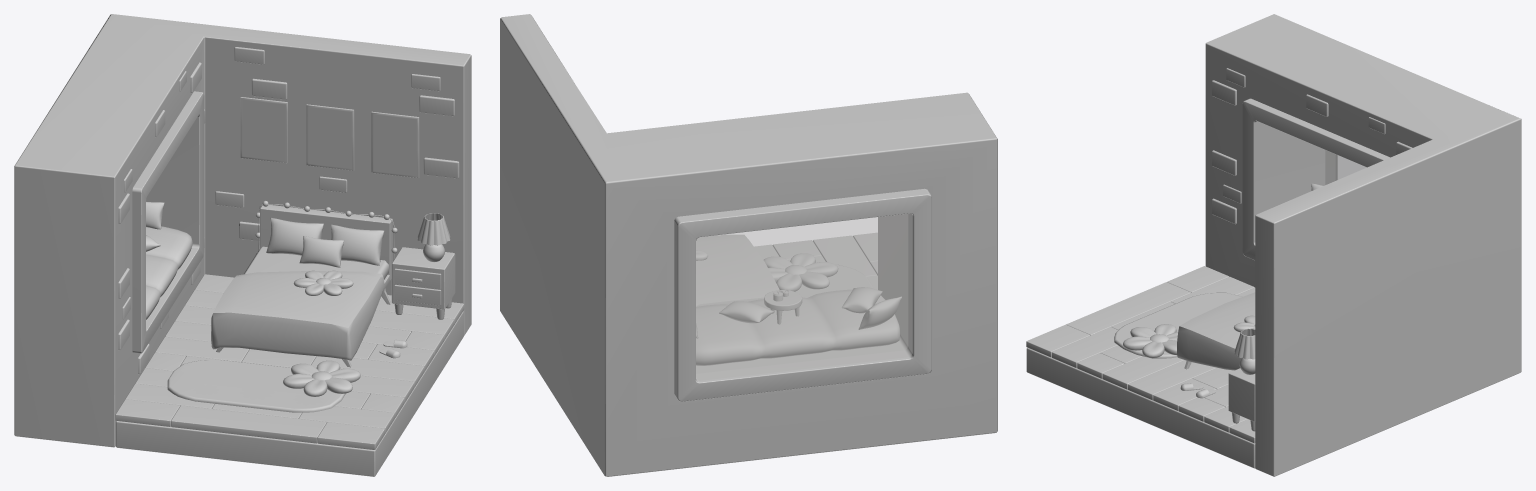
Rendered from Bedroom_12.fbx.
The picture shows the model from 3 angles, left to right: view 1: azimuth 30°, elevation 25°; view 2: azimuth 150°, elevation 25°; view 3: azimuth 270°, elevation 25°; orthographic projection. The views are drawn at different scales.
Parts seen in each view (by area): view 1: Room_12_Wall_1, Room_12_Floor_2, Room_12_Bed_1, Room_12_Window_1, Room_12_Floor_1, Room_12_Carpet_1, Room_12_Cabinet_1, Room_12_Painting_2, Room_12_Painting_3, Room_12_Painting_1, Room_12_Pillow_1, Room_12_Pillow_8 (+6 smaller); view 2: Room_12_Wall_1, Room_12_Window_1, Room_12_Pillow_1, Room_12_Bed_1, Room_12_Floor_2, Room_12_Pillow_8, Room_12_Carpet_1, Room_12_Pillow_10, Room_12_Pillow_6, Room_12_Pillow_7, Room_12_Table_1; view 3: Room_12_Wall_1, Room_12_Floor_2, Room_12_Window_1, Room_12_Floor_1, Room_12_Bed_1, Room_12_Carpet_1, Room_12_Pillow_8, Room_12_Cabinet_1, Room_12_Lamp_1.
Part boxes in pixels (bbox=[...]): Room_12_Wall_1: bbox=[14, 14, 471, 447]; Room_12_Floor_2: bbox=[115, 274, 464, 450]; Room_12_Bed_1: bbox=[211, 204, 392, 367]; Room_12_Window_1: bbox=[132, 91, 204, 353]; Room_12_Floor_1: bbox=[115, 311, 463, 476]; Room_12_Carpet_1: bbox=[167, 360, 345, 412]; Room_12_Cabinet_1: bbox=[391, 247, 455, 319]; Room_12_Painting_2: bbox=[306, 104, 354, 170]; Room_12_Painting_3: bbox=[371, 111, 419, 177]; Room_12_Painting_1: bbox=[240, 97, 287, 163]; Room_12_Pillow_1: bbox=[146, 226, 192, 319]; Room_12_Pillow_8: bbox=[283, 360, 360, 396]; Room_12_Wall_1: bbox=[500, 14, 997, 476]; Room_12_Window_1: bbox=[674, 188, 931, 401]; Room_12_Pillow_1: bbox=[696, 289, 899, 365]; Room_12_Bed_1: bbox=[696, 234, 779, 306]; Room_12_Floor_2: bbox=[754, 232, 877, 289]; Room_12_Pillow_8: bbox=[764, 253, 838, 291]; Room_12_Carpet_1: bbox=[795, 264, 873, 297]; Room_12_Pillow_10: bbox=[719, 301, 773, 323]; Room_12_Pillow_6: bbox=[858, 296, 901, 329]; Room_12_Pillow_7: bbox=[842, 287, 882, 313]; Room_12_Table_1: bbox=[764, 290, 802, 324]; Room_12_Wall_1: bbox=[1205, 14, 1521, 476]; Room_12_Floor_2: bbox=[1026, 266, 1255, 443]; Room_12_Window_1: bbox=[1242, 98, 1389, 260]; Room_12_Floor_1: bbox=[1026, 347, 1255, 468]; Room_12_Bed_1: bbox=[1177, 292, 1255, 370]; Room_12_Carpet_1: bbox=[1114, 292, 1242, 358]; Room_12_Pillow_8: bbox=[1123, 324, 1177, 357]; Room_12_Cabinet_1: bbox=[1228, 368, 1255, 431]; Room_12_Lamp_1: bbox=[1234, 328, 1255, 374].
Size of the model in its own units: 704 by 400 by 705.
